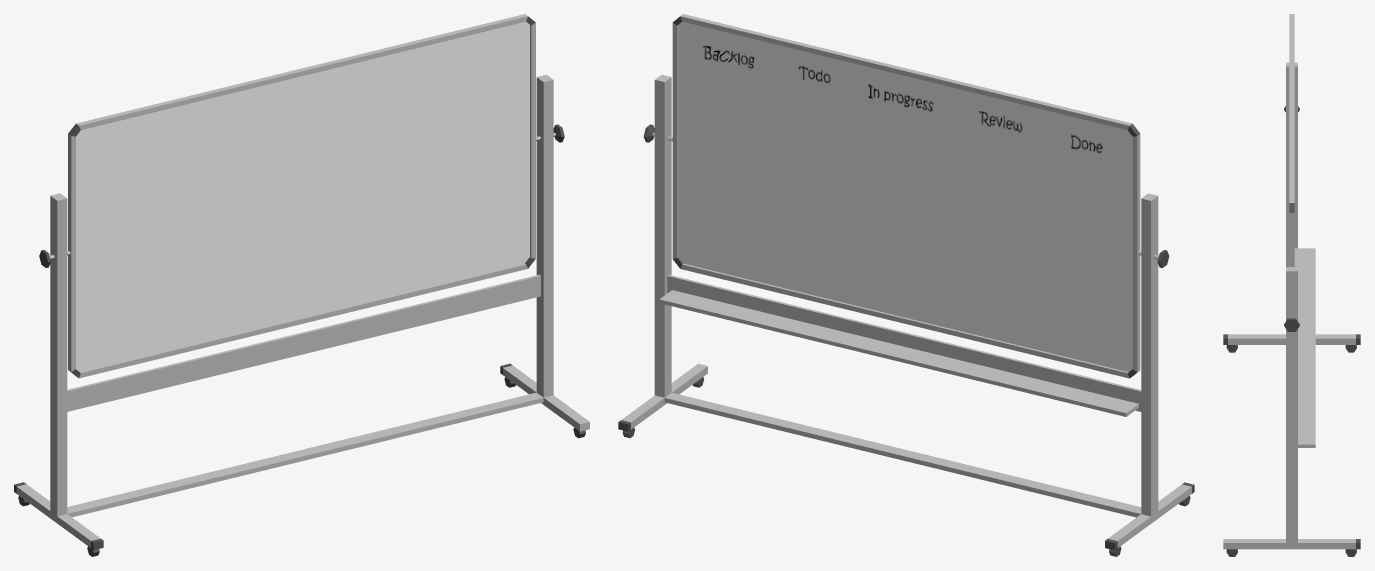
The model's file is Whiteboard.fbx.
3 views of the same model, side by side, from view 1: azimuth 30°, elevation 25°; view 2: azimuth 150°, elevation 25°; view 3: azimuth 270°, elevation 25° (orthographic). The views are drawn at different scales.
Visible parts, largest first — view 1: Whiteboard; view 2: Whiteboard; view 3: Whiteboard.
Boxes of the visible parts, x1,y1,x2,y2 form: Whiteboard: (14,14,589,556); Whiteboard: (618,14,1194,556); Whiteboard: (1223,14,1360,556).
Size of the model in its own units: 576 by 426 by 154.
